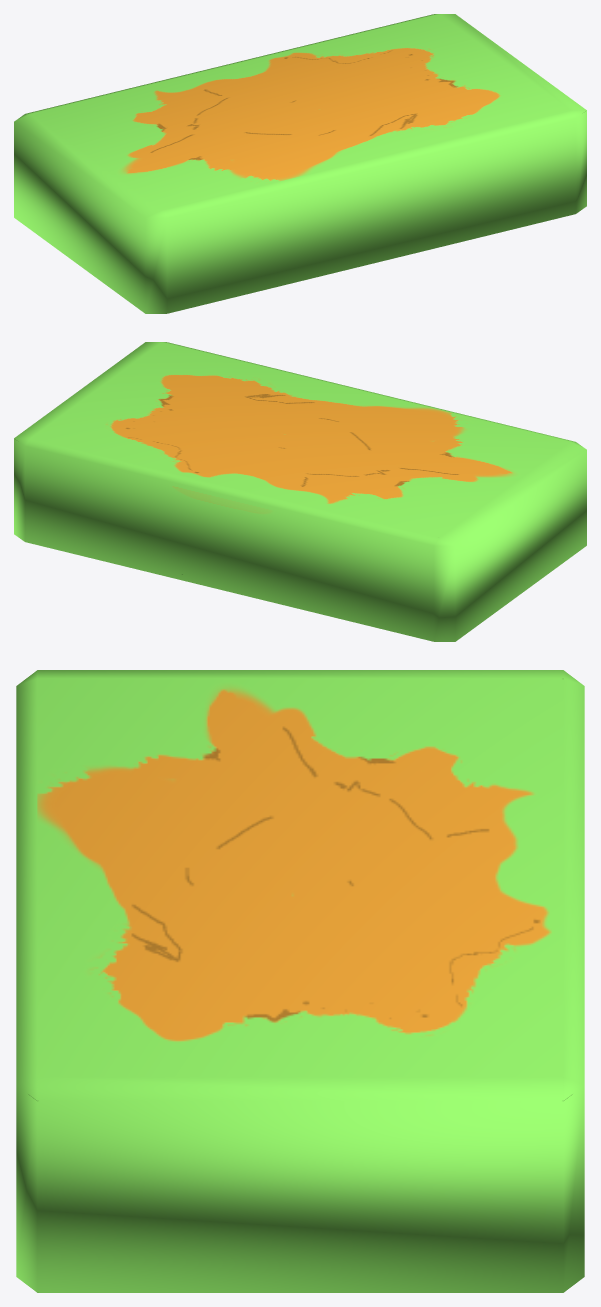
Rendered from TileEsticado.fbx.
The picture shows the model from 3 angles, top to bottom: view 1: azimuth 30°, elevation 25°; view 2: azimuth 150°, elevation 25°; view 3: azimuth 270°, elevation 25°; orthographic projection. The views are drawn at different scales.
Visible parts, largest first — view 1: Cube; view 2: Cube; view 3: Cube.
Boxes of the visible parts, left/top/right/bottom form: Cube: left=14, top=14, right=586, bottom=313; Cube: left=14, top=342, right=586, bottom=641; Cube: left=16, top=670, right=584, bottom=1292.
Size of the model in its own units: 15956 by 3579 by 8898.
Materials: 1 (1 with a texture image).
